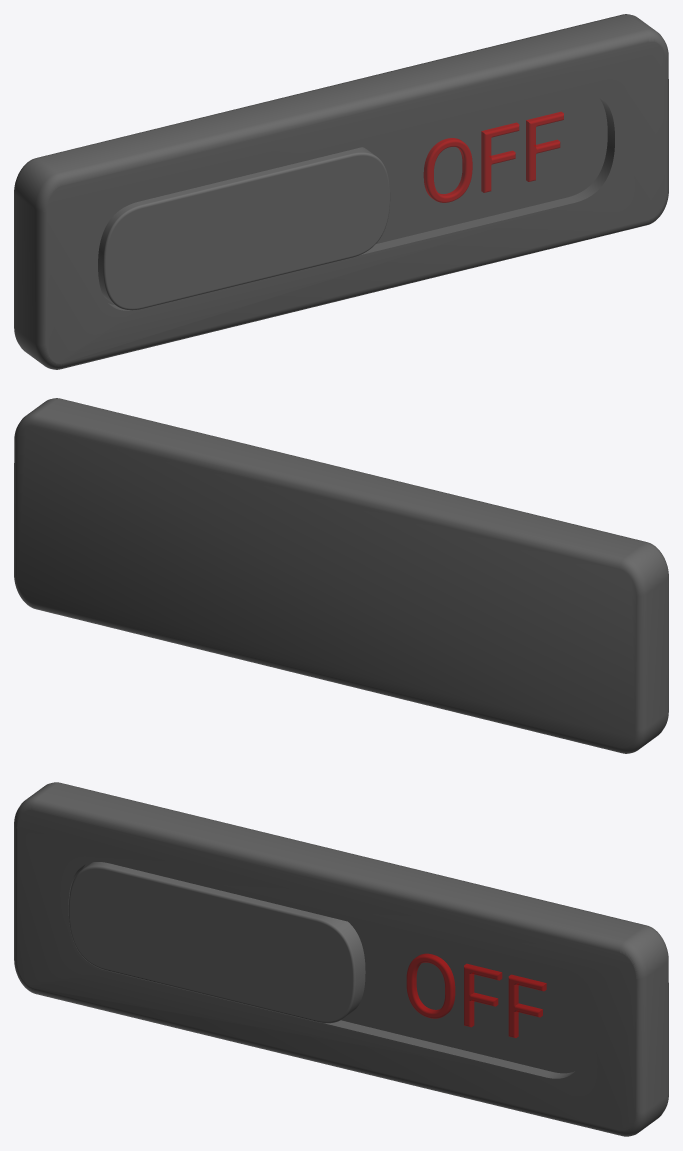
File: switch.gltf
The picture shows the model from 3 angles, top to bottom: view 1: azimuth 30°, elevation 25°; view 2: azimuth 150°, elevation 25°; view 3: azimuth 330°, elevation 25°; orthographic projection.
Parts seen in each view (by area): view 1: Boolean, Rectangle, Text 2; view 2: Boolean; view 3: Boolean, Rectangle, Text 2.
Part boxes in pixels (left/top/right/bottom): Boolean: left=14, top=14, right=668, bottom=369; Rectangle: left=98, top=147, right=390, bottom=310; Text 2: left=423, top=111, right=563, bottom=202; Boolean: left=14, top=398, right=668, bottom=753; Boolean: left=14, top=782, right=668, bottom=1136; Rectangle: left=68, top=862, right=365, bottom=1023; Text 2: left=406, top=953, right=546, bottom=1037.
Bounding box in the file's own units: 1.49 × 0.4411 × 0.1341.
